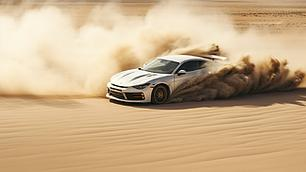汽车: (102, 49, 238, 103)
